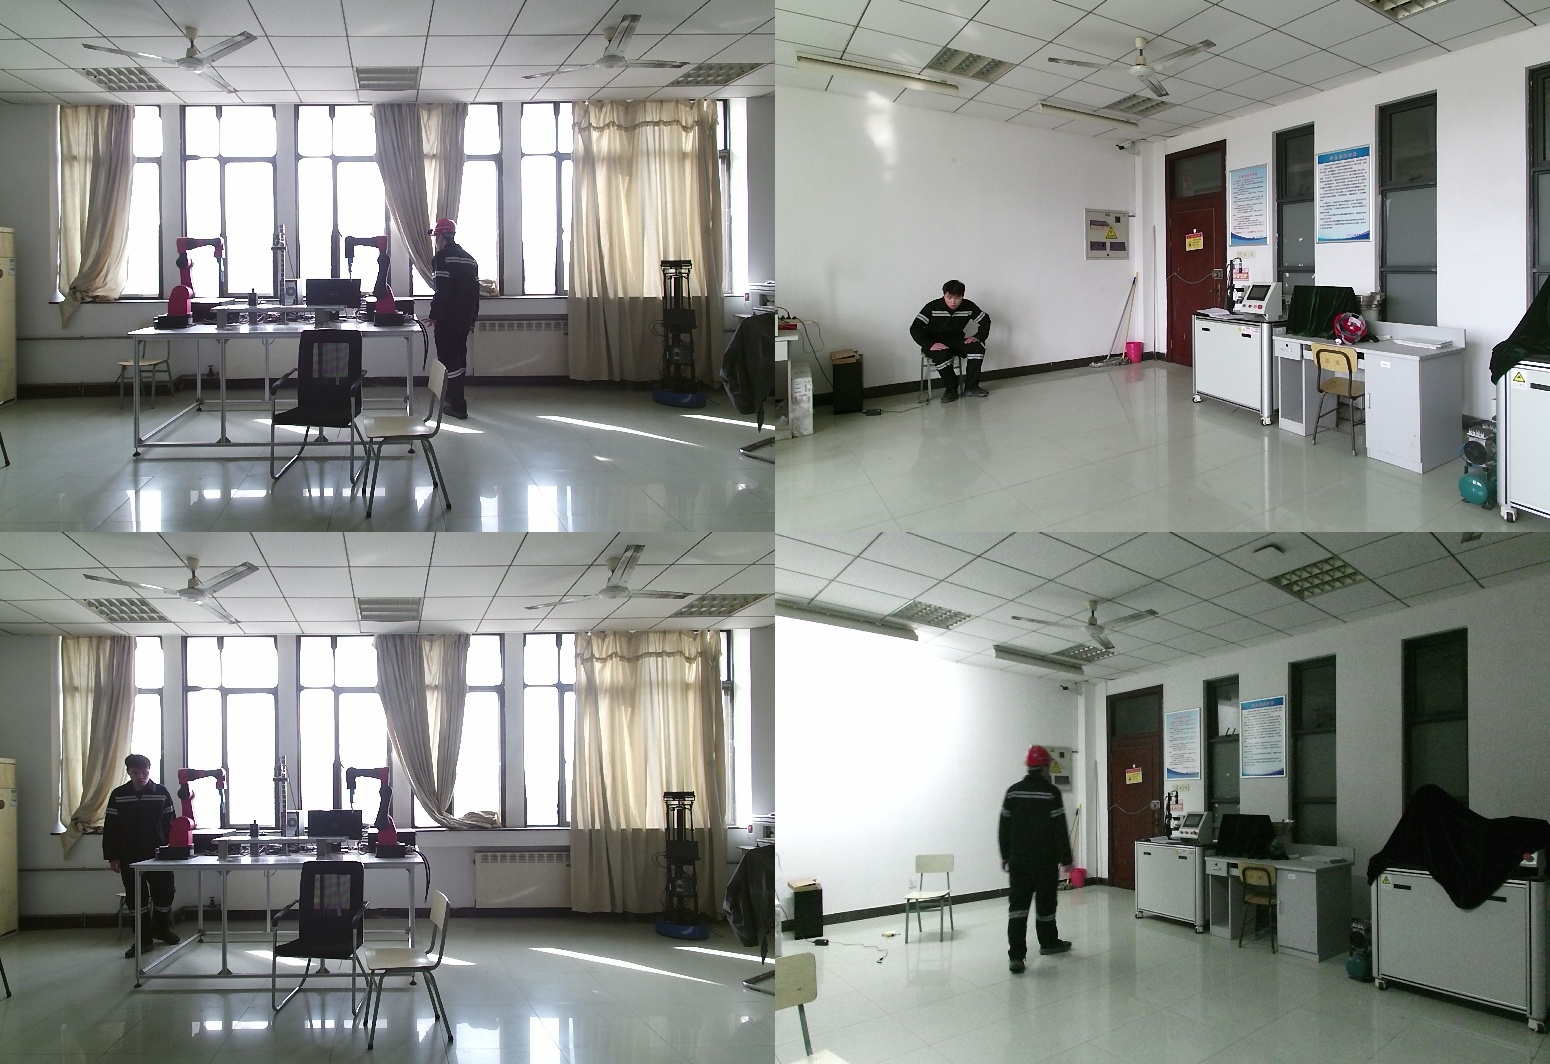person: (987, 747, 1070, 976), (96, 754, 185, 957), (422, 220, 483, 424), (908, 279, 990, 407)
